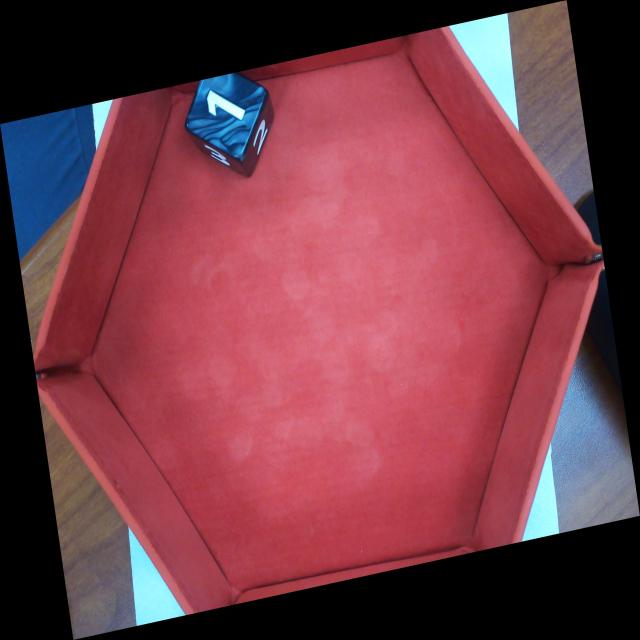dice: (188, 73, 267, 155)
